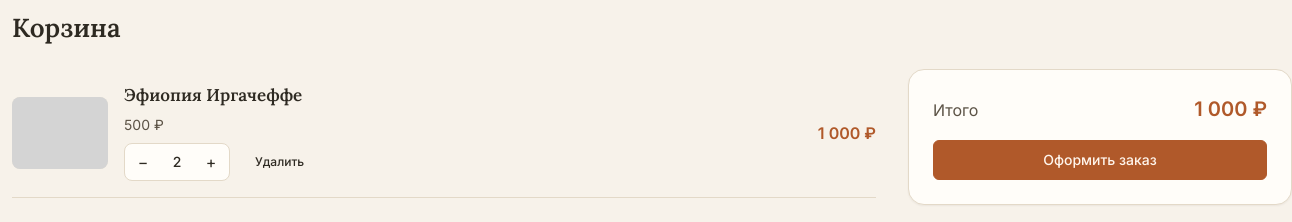
CartPage › updates quantity optimistically and recalculates the line total
Expected: the link "Эфиопия Иргачеффе" is shown, [124,84,302,106]
Click the button named "Увеличить количество" at {"x": 211, "y": 162}, box [197,148,225,176]
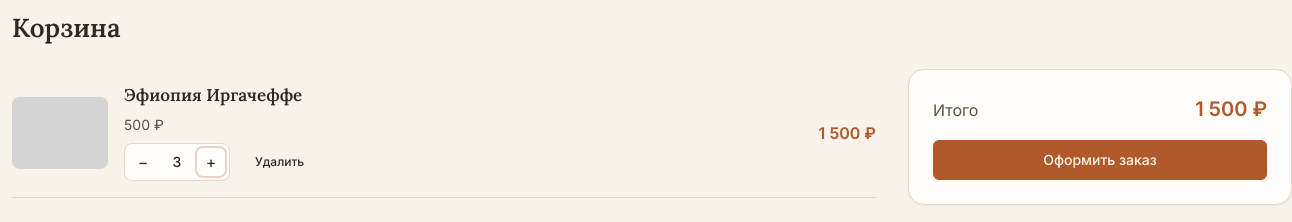
Expected: the text "1 500 ₽" in the row of "Итого" is shown, [1195,94,1267,124]
Now the text "3" is shown, box [173,153,181,170]
